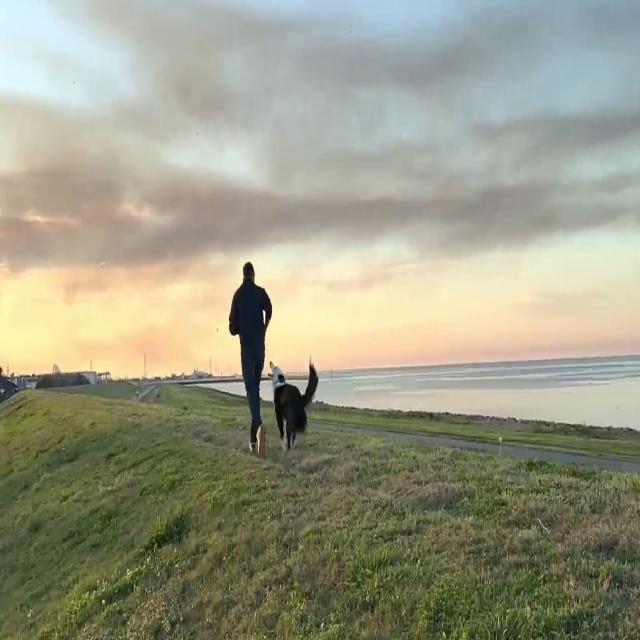Unleashed_Dog: (246, 351, 319, 450)
